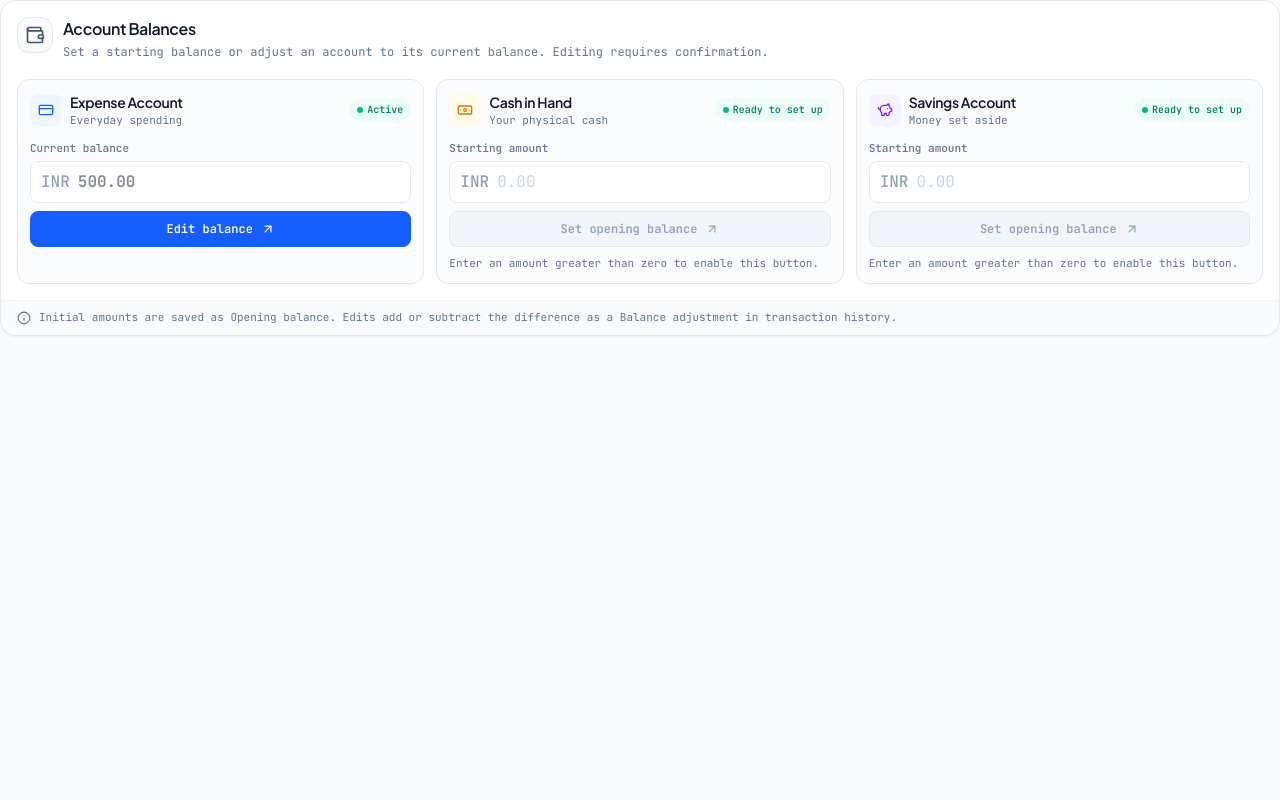
Scenario: Opening balances › cancels edits without saving and requires confirmation again
Click the button "Edit balance".
click(221, 228)  # box [30,210,411,246]
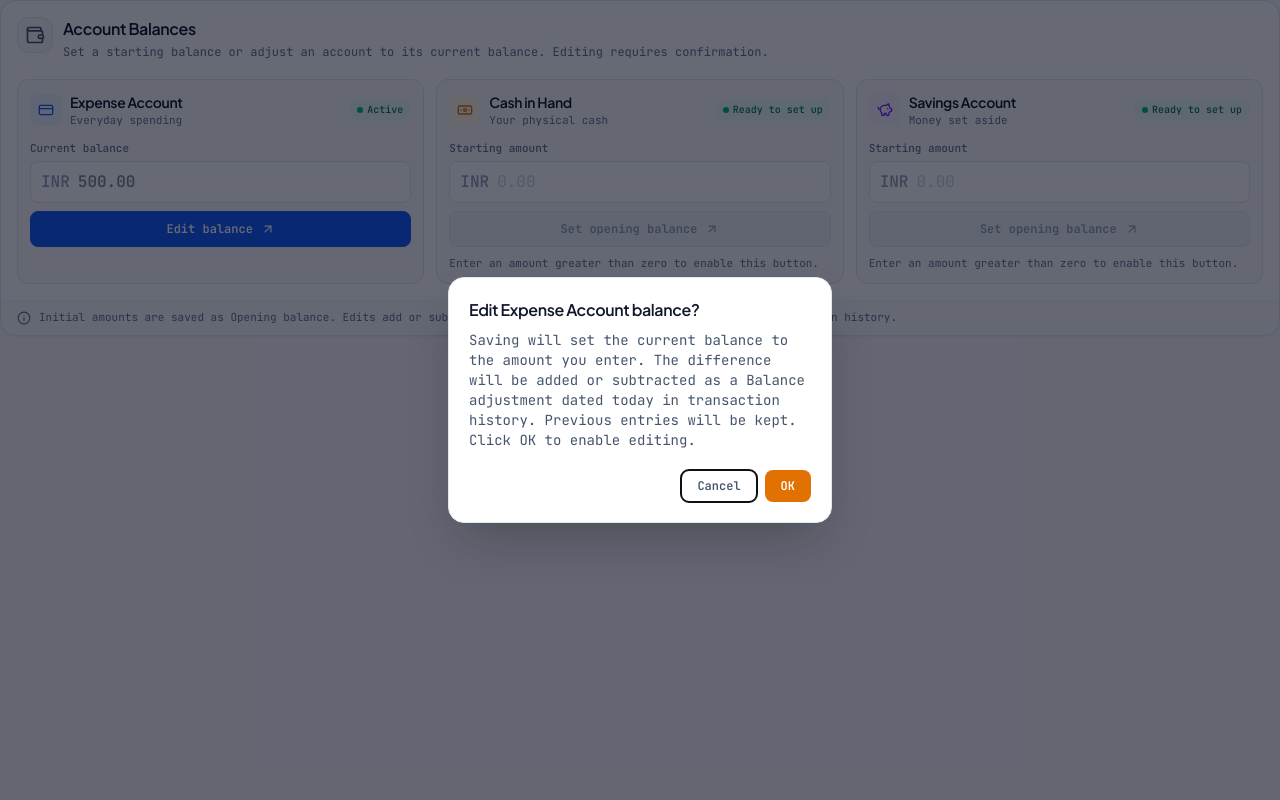
Click the button "OK".
click(788, 486)  # box [765,470,811,502]
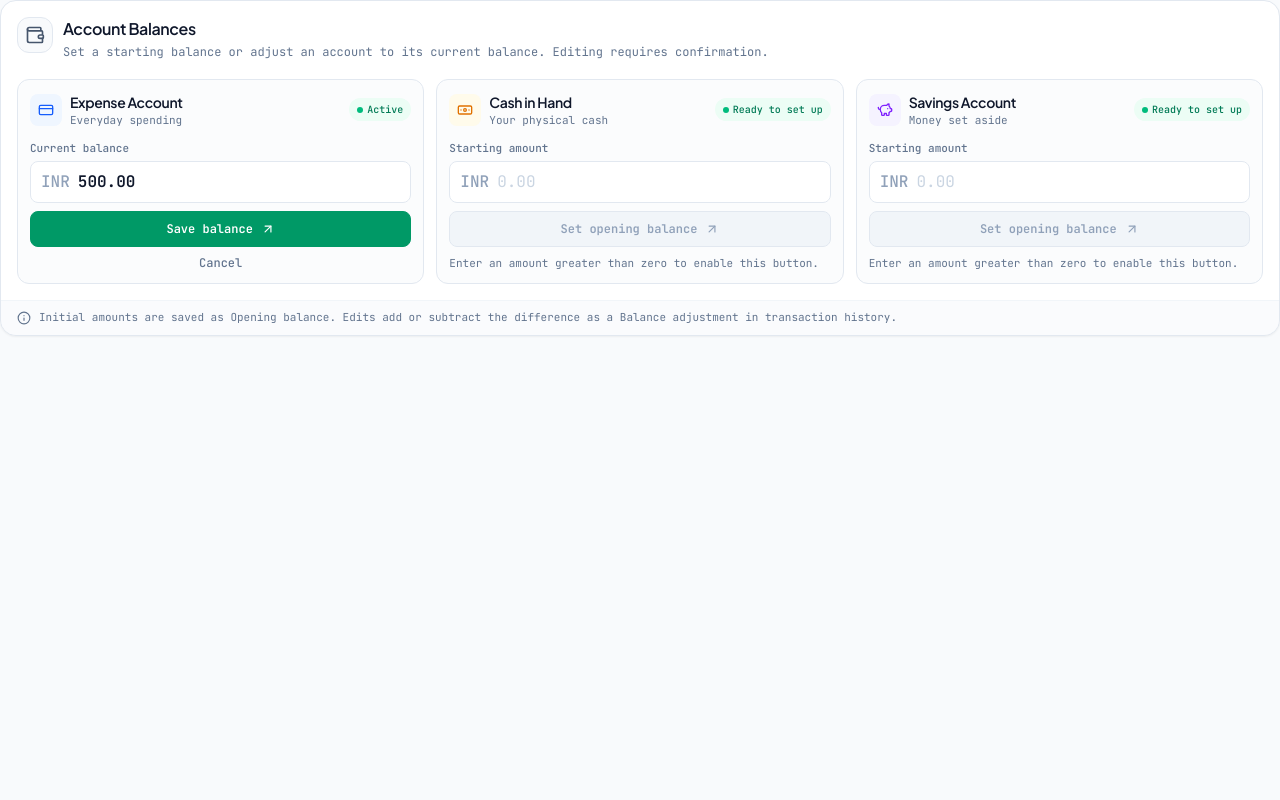
Replace the text in the number field named "Expense Account opening balance" with "800" at point(239, 182), box [78,162,400,202]
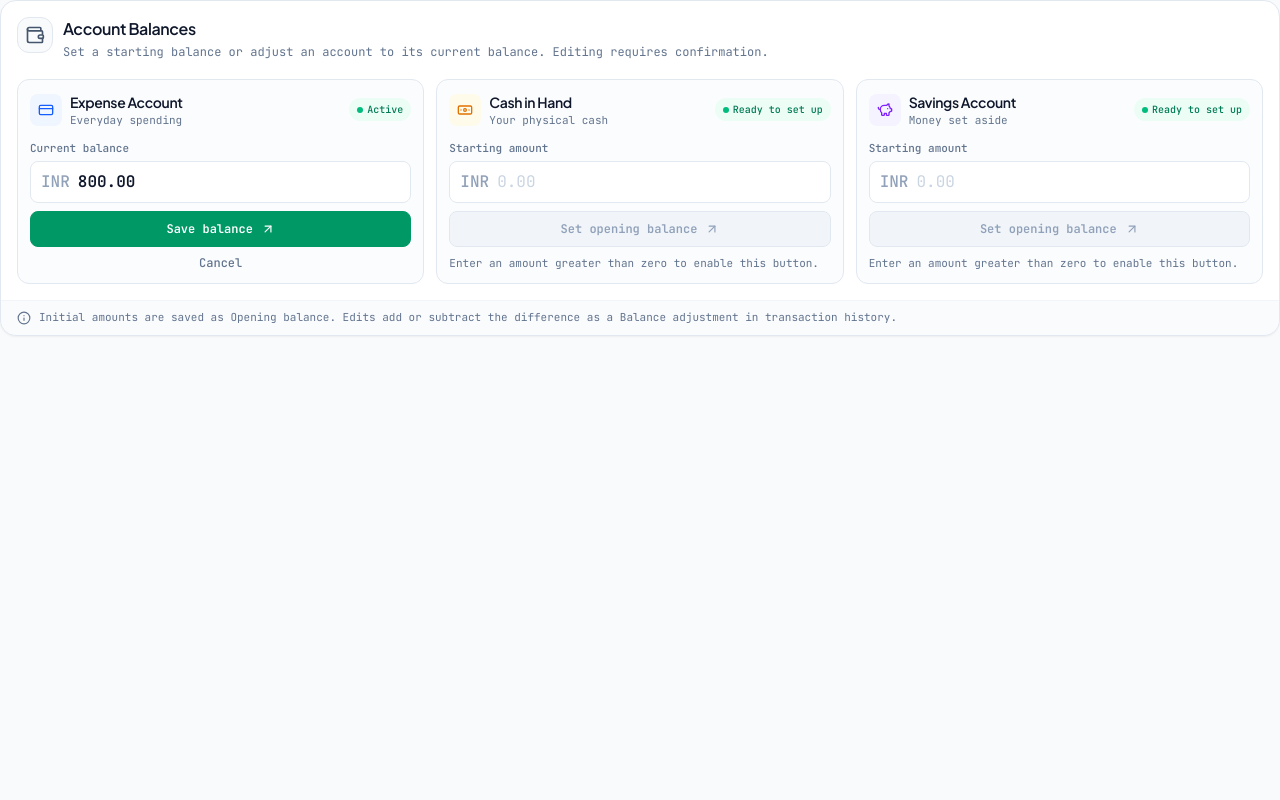
Click the button "Cancel".
click(221, 262)  # box [30,254,411,270]
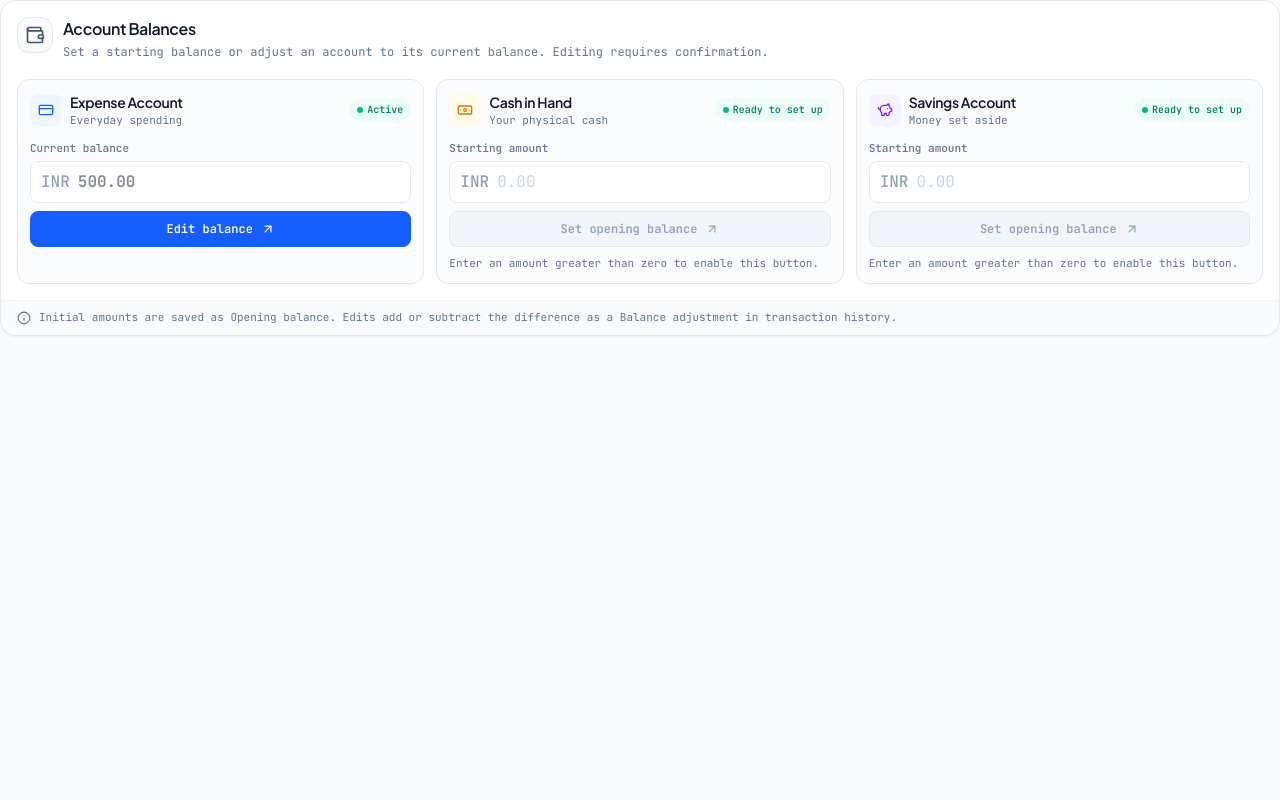
expect the number field named "Expense Account opening balance" is disabled: met, box [78,162,400,202]
Click the button "Edit balance".
click(221, 228)  # box [30,210,411,246]
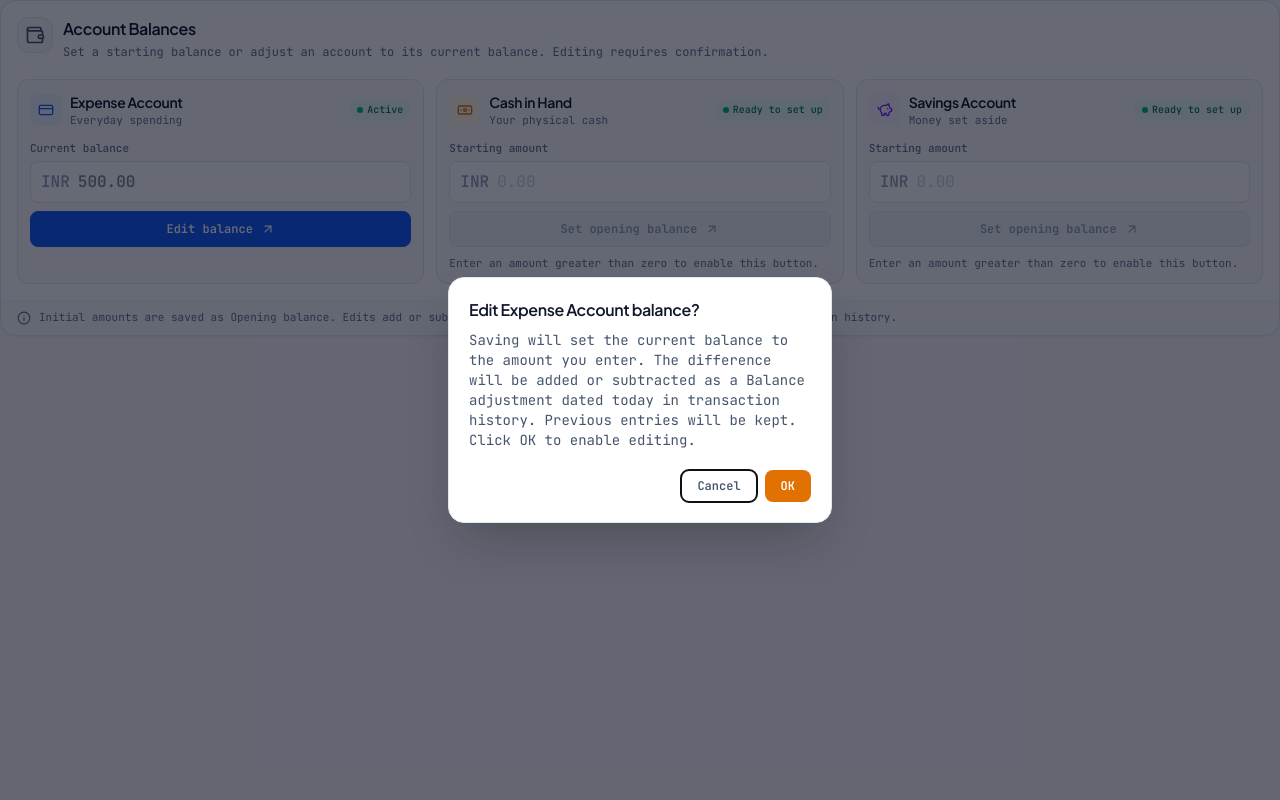
expect the dialog is shown: met
